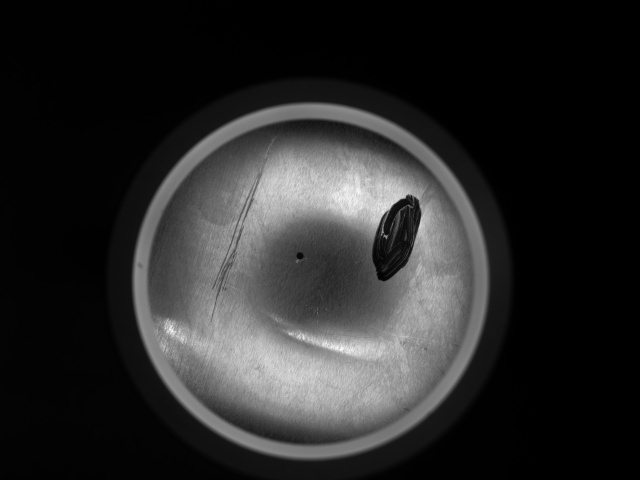ca_shang: (203, 126, 279, 327)
zang_wu: (369, 196, 421, 284)
zhen_kong: (293, 250, 305, 263)
